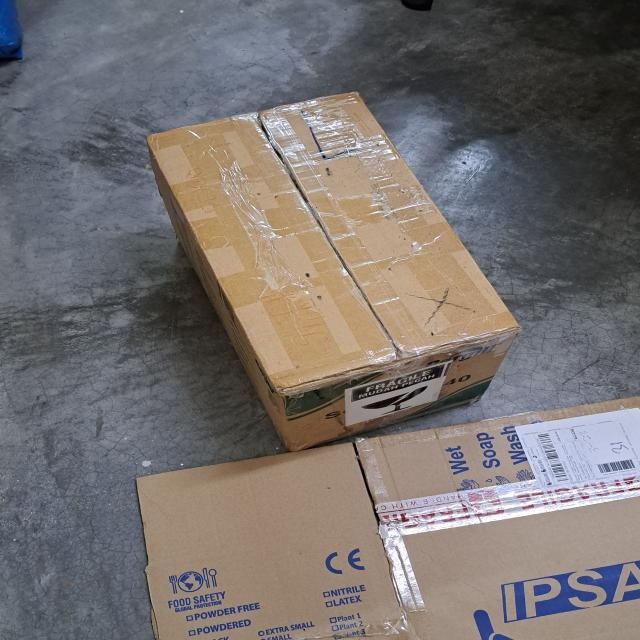cardboard: (144, 90, 523, 454), (135, 394, 640, 640)
